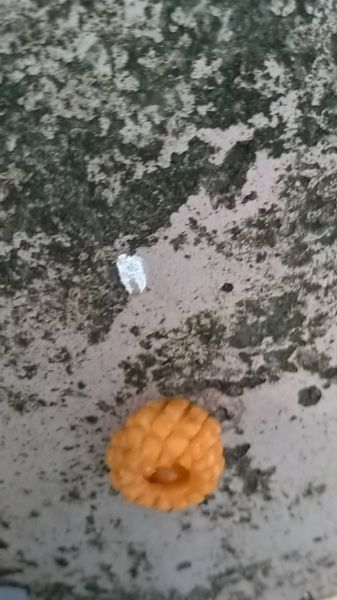eggs: (103, 390, 228, 513)
